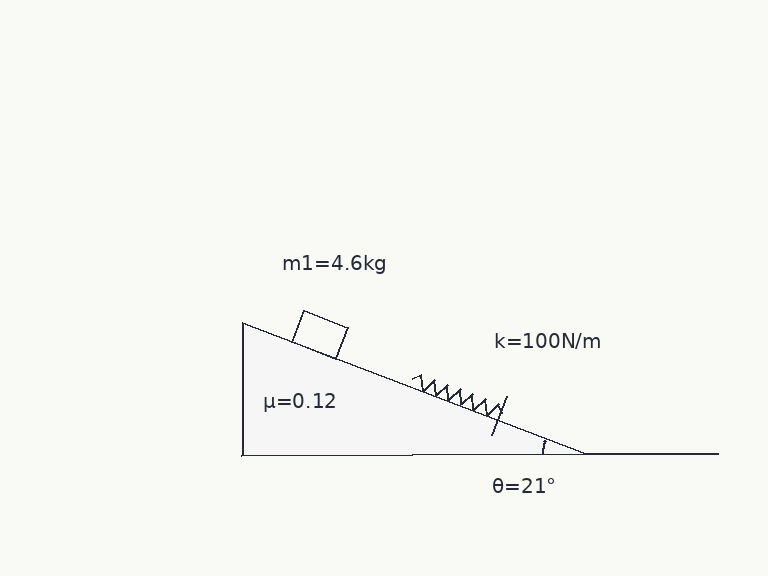block: (290, 308, 349, 361)
ramp: (240, 321, 585, 456)
spring: (410, 373, 503, 417)
